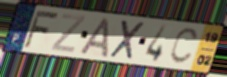4: (143, 23, 169, 64)
A: (78, 16, 111, 60)
C: (168, 27, 201, 66)
F: (22, 9, 61, 49)
X: (107, 18, 146, 62)
Z: (49, 13, 88, 54)
